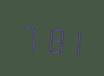eight: (41, 19, 62, 56)
one: (63, 21, 84, 58)
seven: (18, 17, 39, 54)
